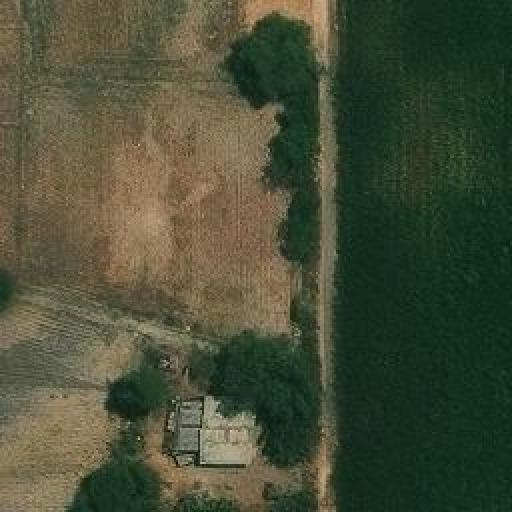manzanas: (165, 383, 259, 473)
